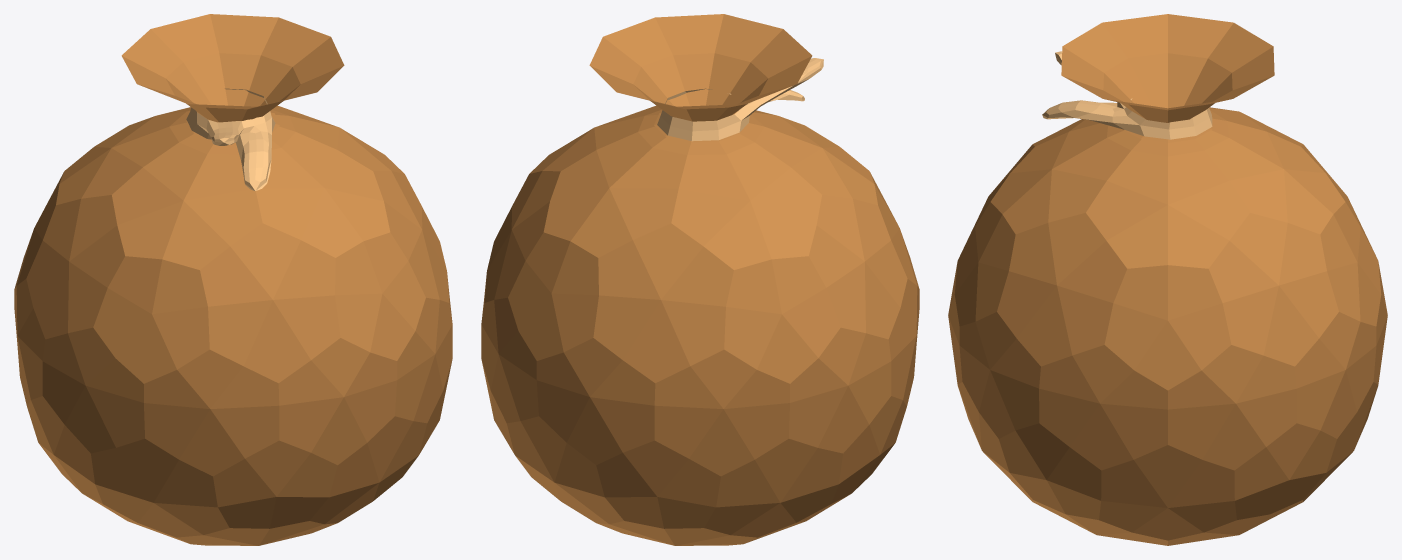
File: bag.glb
3 renders of one model, left to right at view 1: azimuth 30°, elevation 25°; view 2: azimuth 150°, elevation 25°; view 3: azimuth 270°, elevation 25°, orthographic.
Parts seen in each view (by area): view 1: Icosphere, Icosphere.001; view 2: Icosphere, Icosphere.001; view 3: Icosphere, Icosphere.001.
Part boxes in pixels (left/top/right/bottom): Icosphere: left=14, top=14, right=452, bottom=545; Icosphere.001: left=186, top=88, right=275, bottom=191; Icosphere: left=481, top=14, right=919, bottom=545; Icosphere.001: left=657, top=58, right=823, bottom=141; Icosphere: left=948, top=14, right=1387, bottom=545; Icosphere.001: left=1042, top=51, right=1212, bottom=139.
Size of the model in its own units: 1.75 by 2.05 by 1.76.
